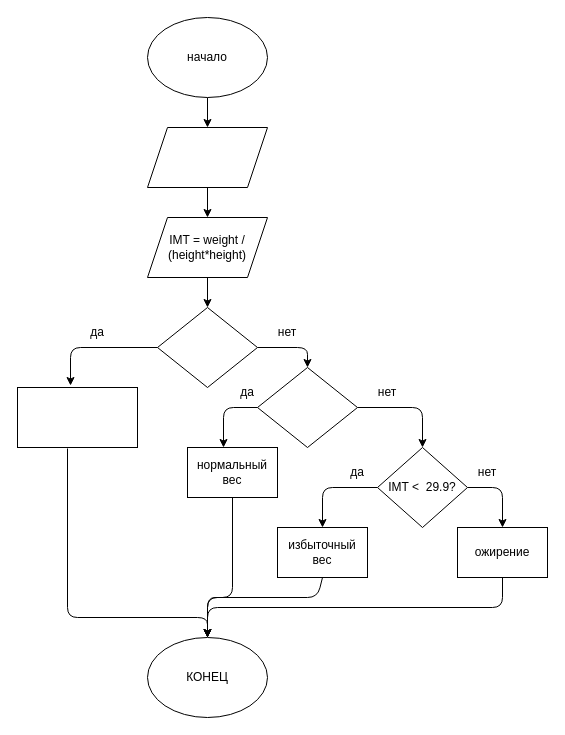
The diagram is 565 pixels wide and 735 high, and some of its shapes have lost their labels. Here are the shapes that lost their labels. From the top down, the centre of each, then its label:
pixel 207 157: ввод: вес и рост
pixel 207 347: IMT <18.5?
pixel 77 417: недостаточный вес
pixel 307 407: IMT < 24.9?
